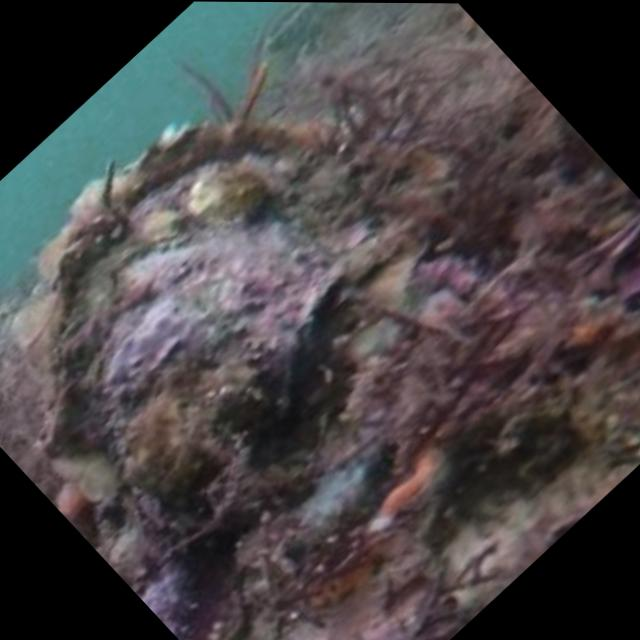Oyster-Indeterminate: (47, 120, 379, 455)
